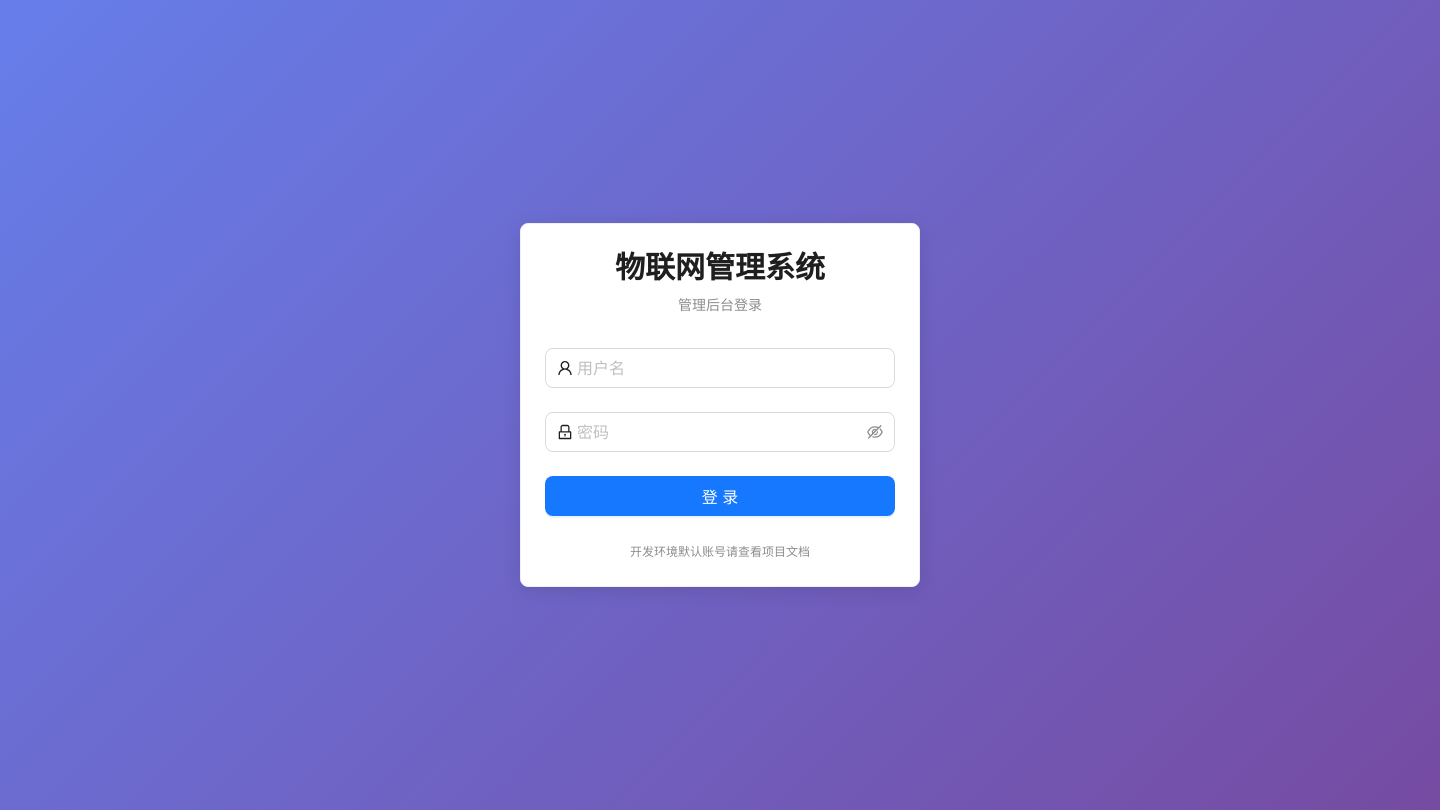
Test: Login › should require username field
The image size is (1440, 810).
Click the button "登 录" at (720, 496), box [545,476,895,516]
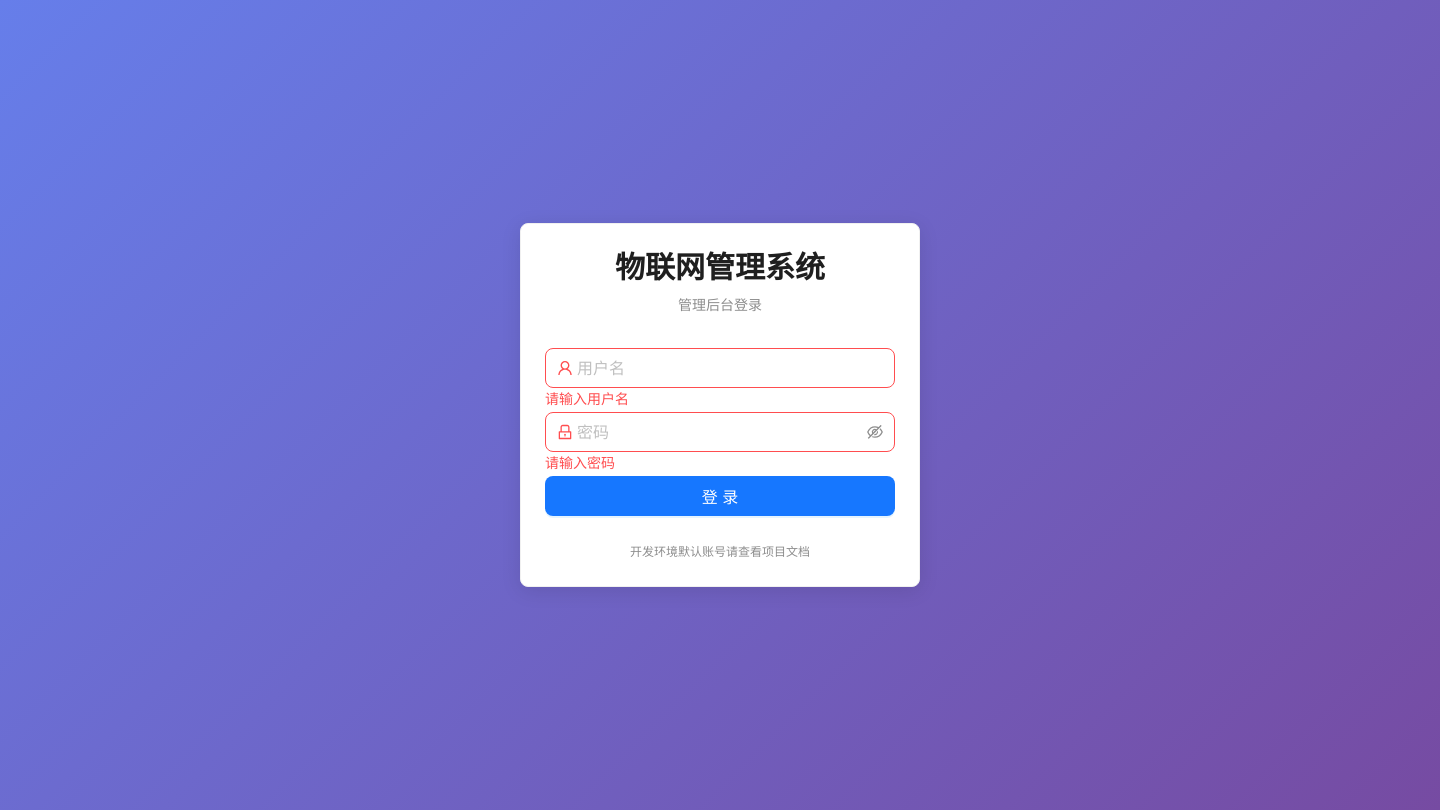
Expected: the text "请输入用户名" is shown, [545,390,629,407]
